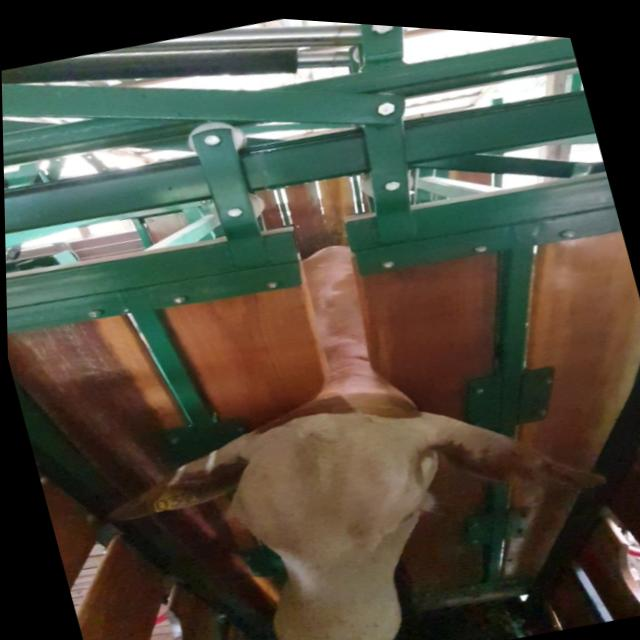cowFace: (209, 384, 460, 640)
